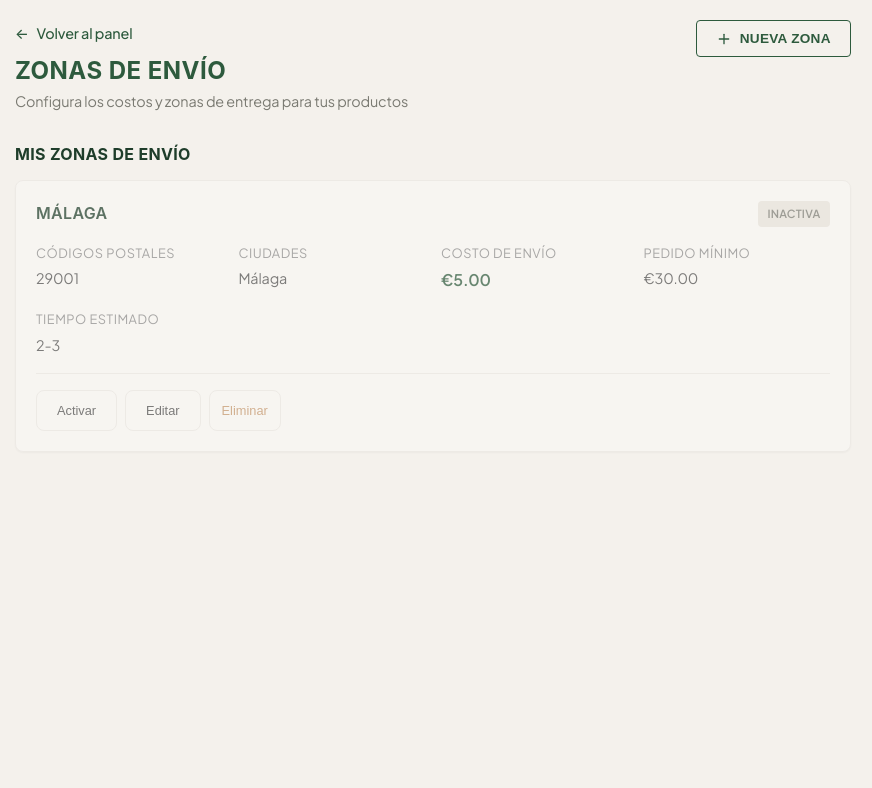
Scenario: ProducerShipping › shows form when adding zone
Step 1. Click the button with class "btn-add-zone" → (773, 39), box [696, 20, 851, 57]
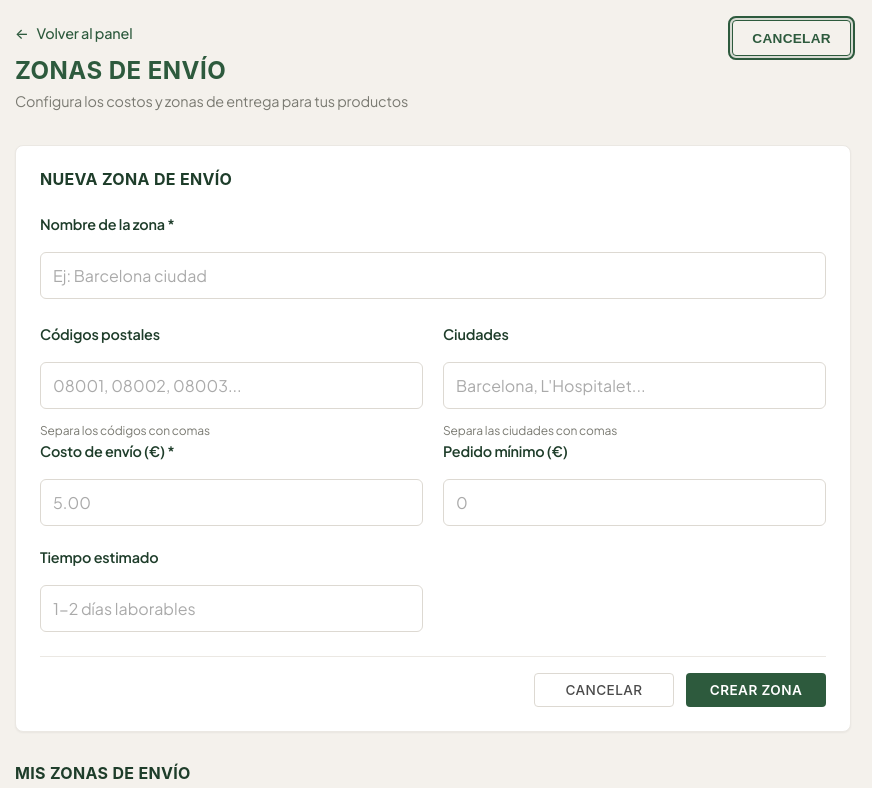
Check: the form is shown, box [40, 213, 826, 708]
Check: the button "Crear zona" is shown, box [686, 674, 826, 708]
